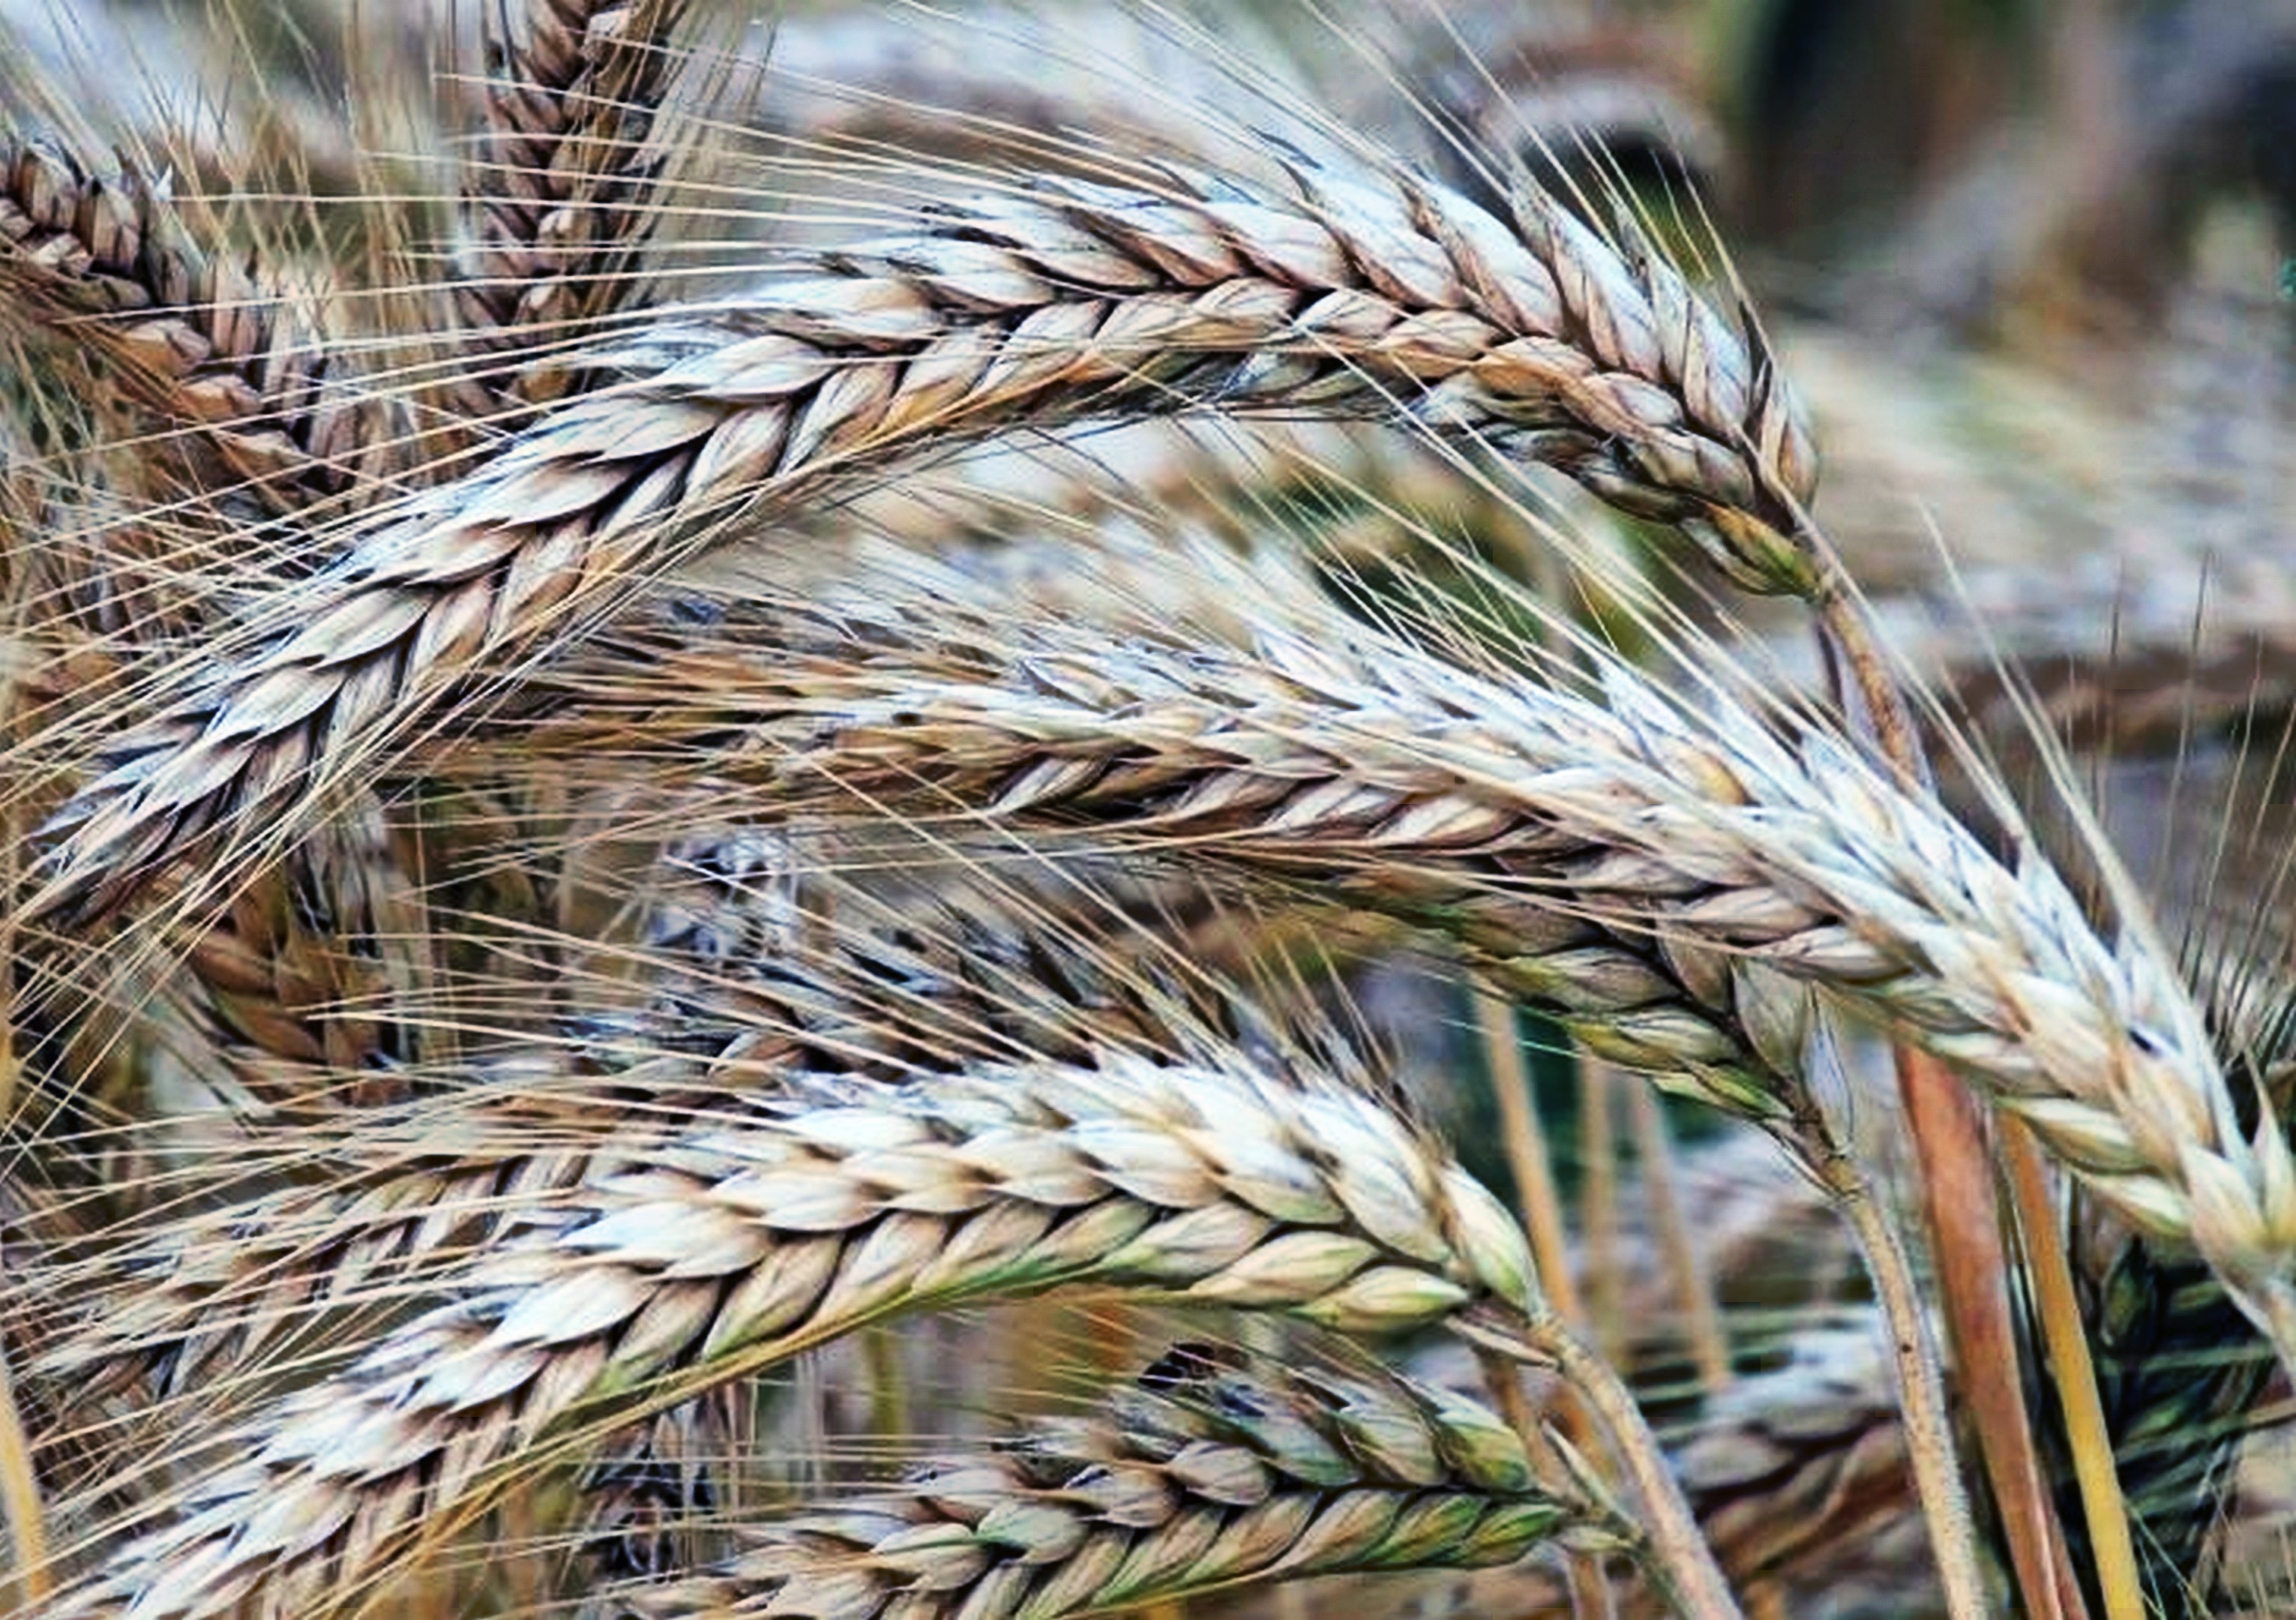Healthy Wheat: (212, 1038, 1570, 1557)
